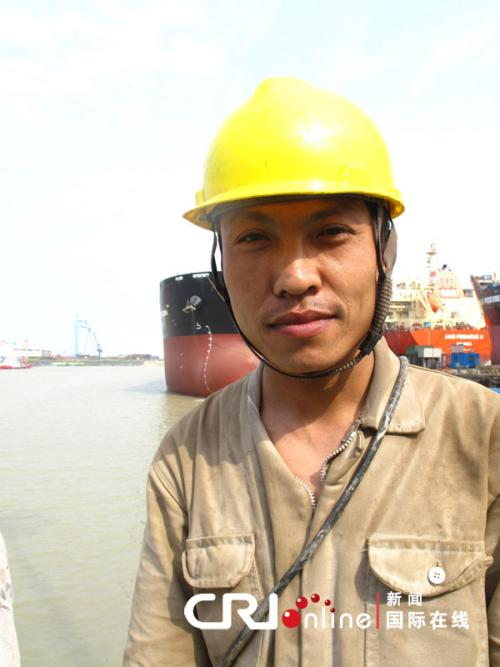hard-hat: (182, 74, 406, 230)
person: (121, 74, 500, 665)
